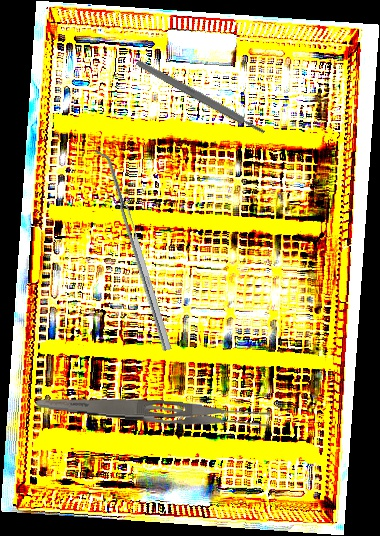Dressing Forceps: (34, 393, 274, 432)
Scalpel Handle: (134, 58, 267, 137)
Spatula Surgical: (93, 146, 172, 354)
